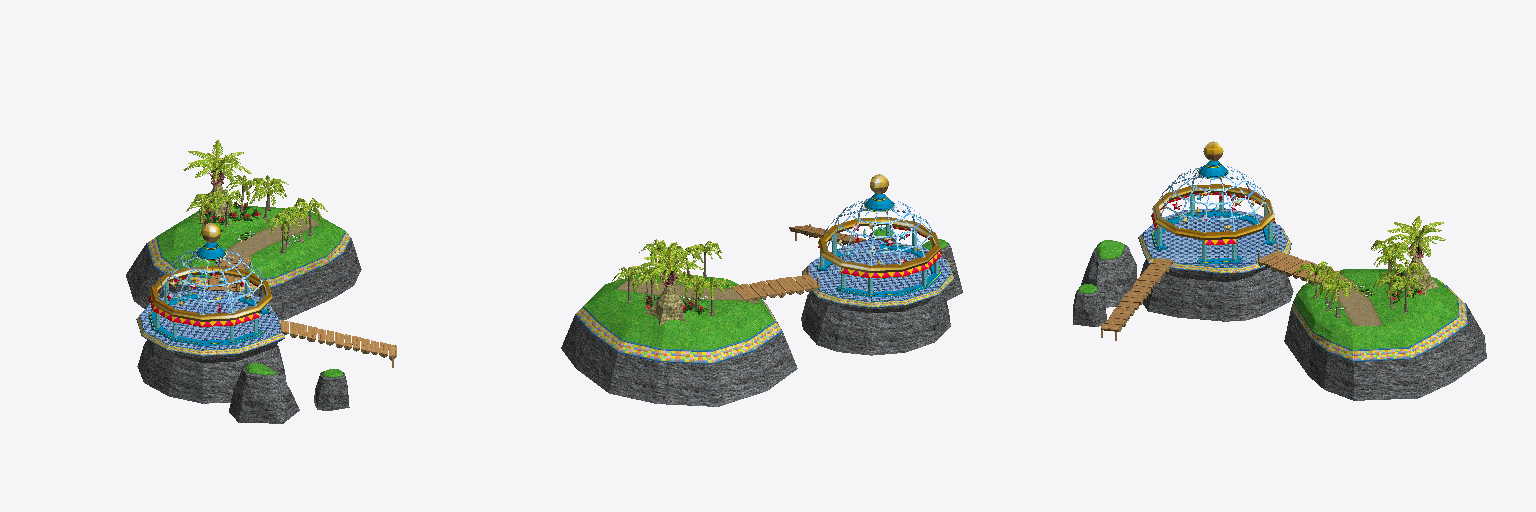
3 views of the same model, side by side, from view 1: azimuth 30°, elevation 25°; view 2: azimuth 150°, elevation 25°; view 3: azimuth 270°, elevation 25° (orthographic).
Parts seen in each view (by area): view 1: object_308A2E4.003; view 2: object_308A2E4.003; view 3: object_308A2E4.003.
Part boxes in pixels (bbox=[...]): object_308A2E4.003: bbox=[126, 139, 396, 423]; object_308A2E4.003: bbox=[561, 174, 962, 406]; object_308A2E4.003: bbox=[1073, 141, 1486, 400].
Bounding box in the file's own units: 23.97 × 12.13 × 30.13.
Materials: 64 (29 with a texture image).